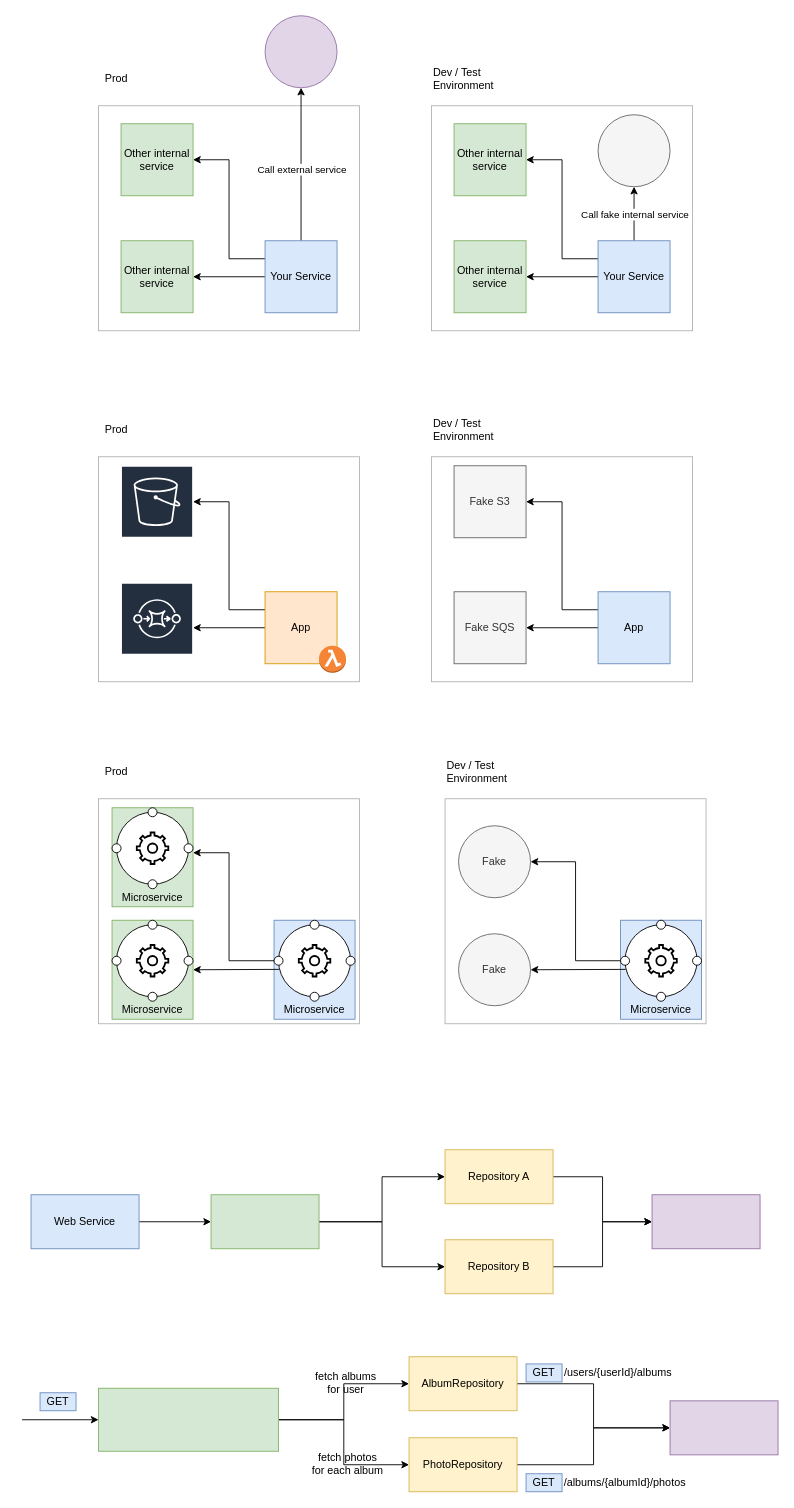
This 794x1508 diagram has some shape labels left out. The shapes that lost their labels are listed below. From the top down, each one's centre as x and y in pixels, then its label:
(300,51): External Service
(633,150): Fake internal Service
(156,510): Amazon S3
(156,627): Amazon SQS
(264,1221): endpoint
(705,1221): External Data Provider
(188,1419): "/activity/reports/photos/{userId}"
(723,1427): {JSON} Placeholder
